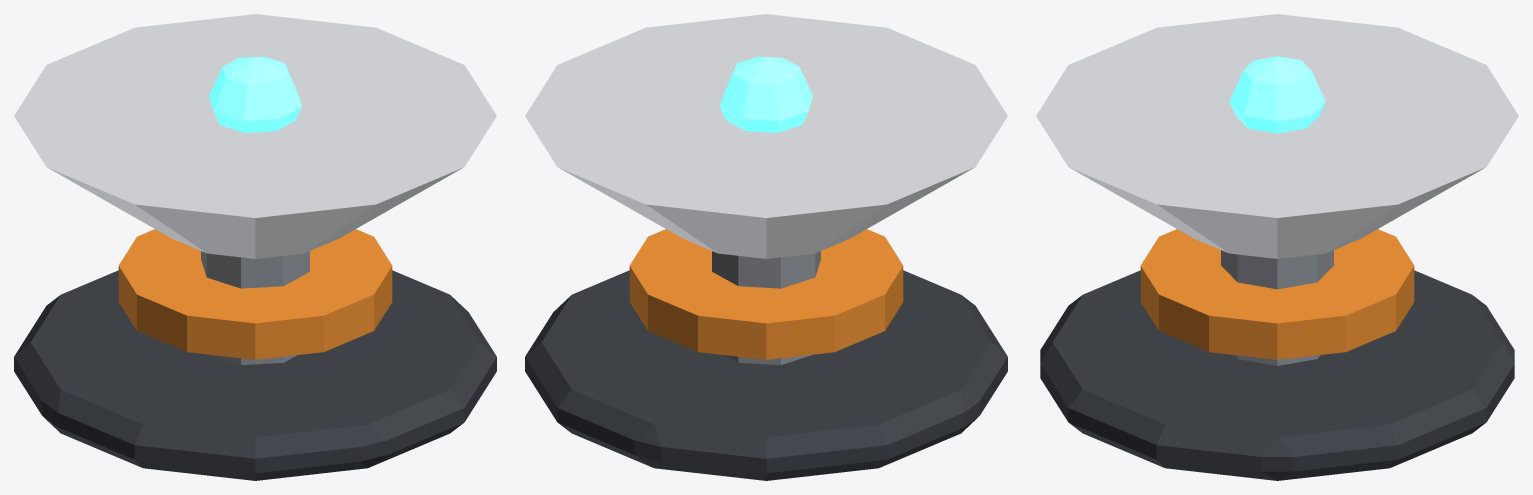
The model's file is scrap_magnet.glb.
The picture shows the model from 3 angles, left to right: view 1: azimuth 30°, elevation 25°; view 2: azimuth 150°, elevation 25°; view 3: azimuth 270°, elevation 25°; orthographic projection.
Visible parts, largest first — view 1: scrap_magnet; view 2: scrap_magnet; view 3: scrap_magnet.
Boxes of the visible parts, box(x1,y1,x2,y2) form: scrap_magnet: box(14, 14, 496, 480); scrap_magnet: box(525, 14, 1007, 480); scrap_magnet: box(1036, 14, 1518, 480).
Bounding box in the file's own units: 0.6 × 0.45 × 0.6.
